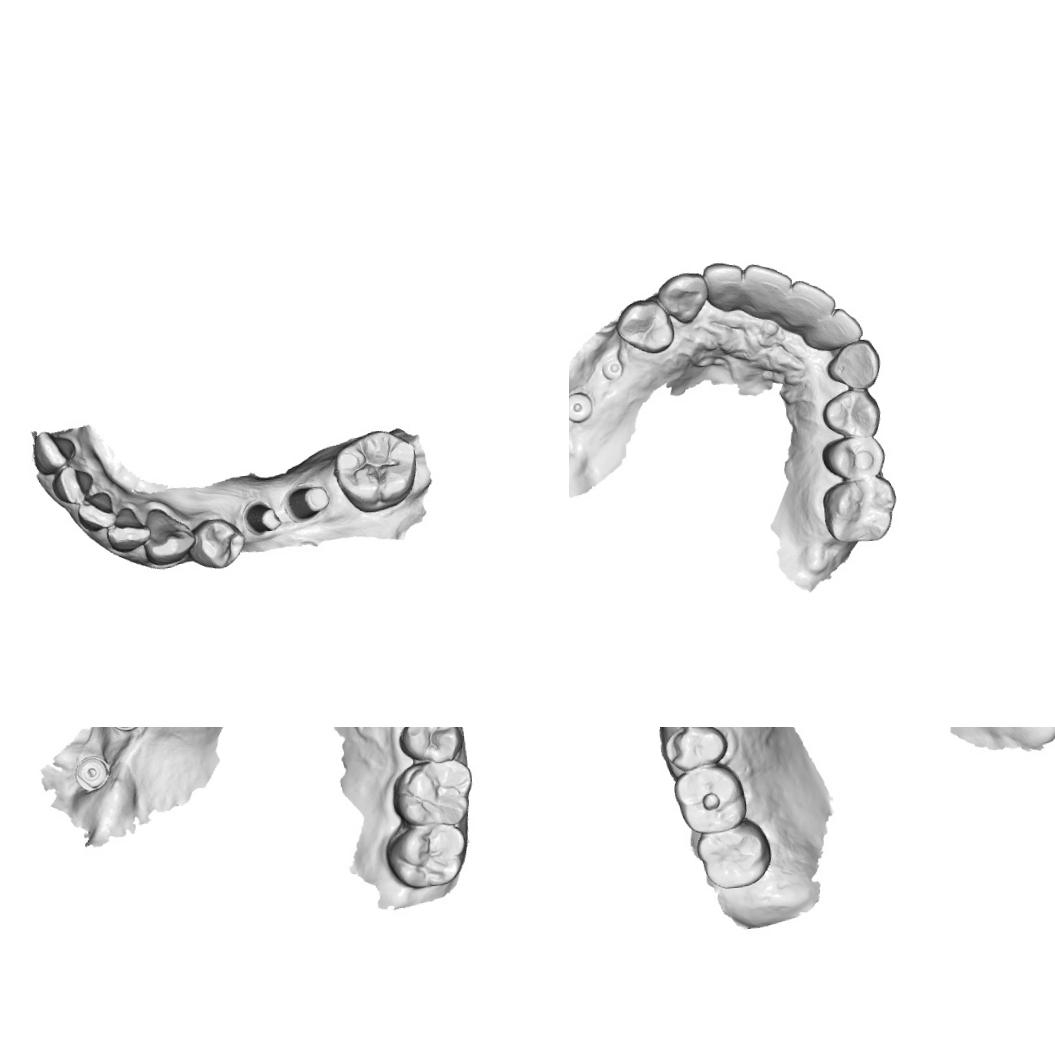abutment: (286, 478, 333, 522), (241, 494, 284, 538)
canine: (142, 501, 201, 565), (822, 336, 884, 392), (654, 269, 710, 327)
implant: (70, 750, 112, 794), (569, 388, 594, 425), (599, 354, 624, 382)
incisor: (742, 260, 796, 321), (784, 276, 838, 330), (24, 426, 78, 476), (700, 258, 748, 312), (104, 506, 152, 554), (74, 486, 123, 532), (816, 304, 865, 350), (47, 460, 96, 505)
molar: (328, 424, 420, 514), (386, 756, 476, 830), (382, 816, 470, 890), (692, 816, 776, 891), (670, 761, 750, 837), (819, 474, 900, 546)
premolar: (613, 295, 677, 355), (818, 386, 885, 442), (188, 513, 248, 575), (818, 432, 888, 481), (663, 727, 730, 771), (393, 727, 465, 766)
